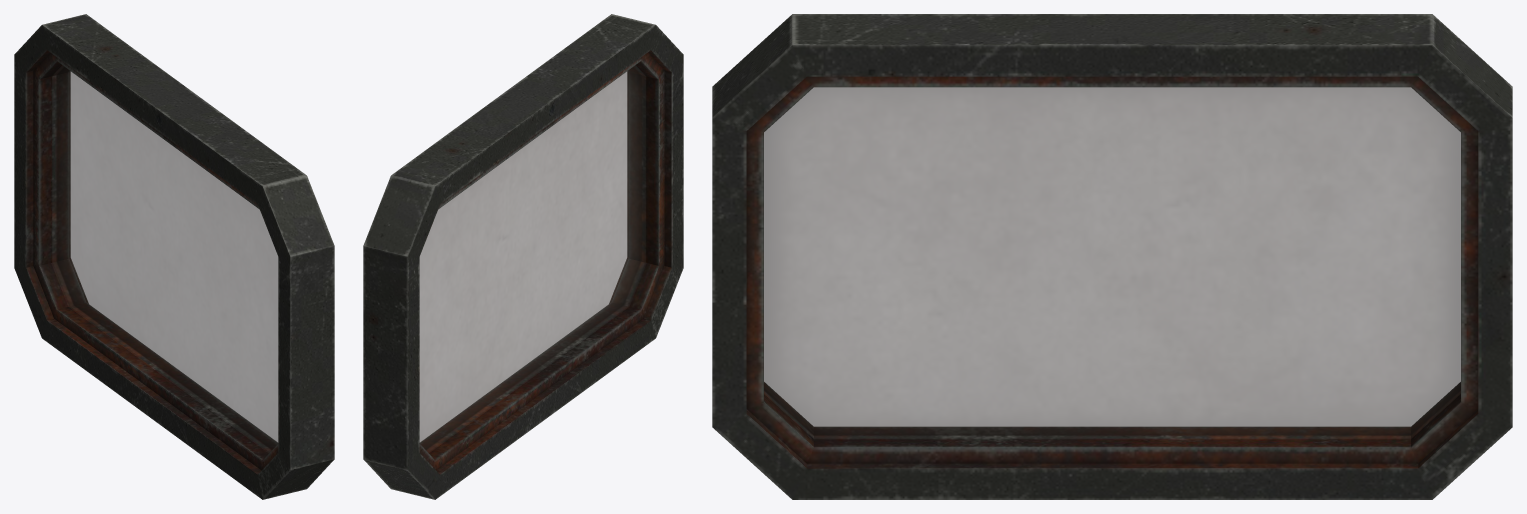
File: WindowFrame.FBX
3 renders of one model, left to right at view 1: azimuth 30°, elevation 25°; view 2: azimuth 150°, elevation 25°; view 3: azimuth 270°, elevation 25°, orthographic. The views are drawn at different scales.
Visible parts, largest first — view 1: WindowFrame; view 2: WindowFrame; view 3: WindowFrame.
Boxes of the visible parts, x1,y1,x2,y2 form: WindowFrame: (14,14,334,499); WindowFrame: (363,14,683,499); WindowFrame: (712,14,1512,499).
Size of the model in its own units: 11.71 by 79.17 by 126.
